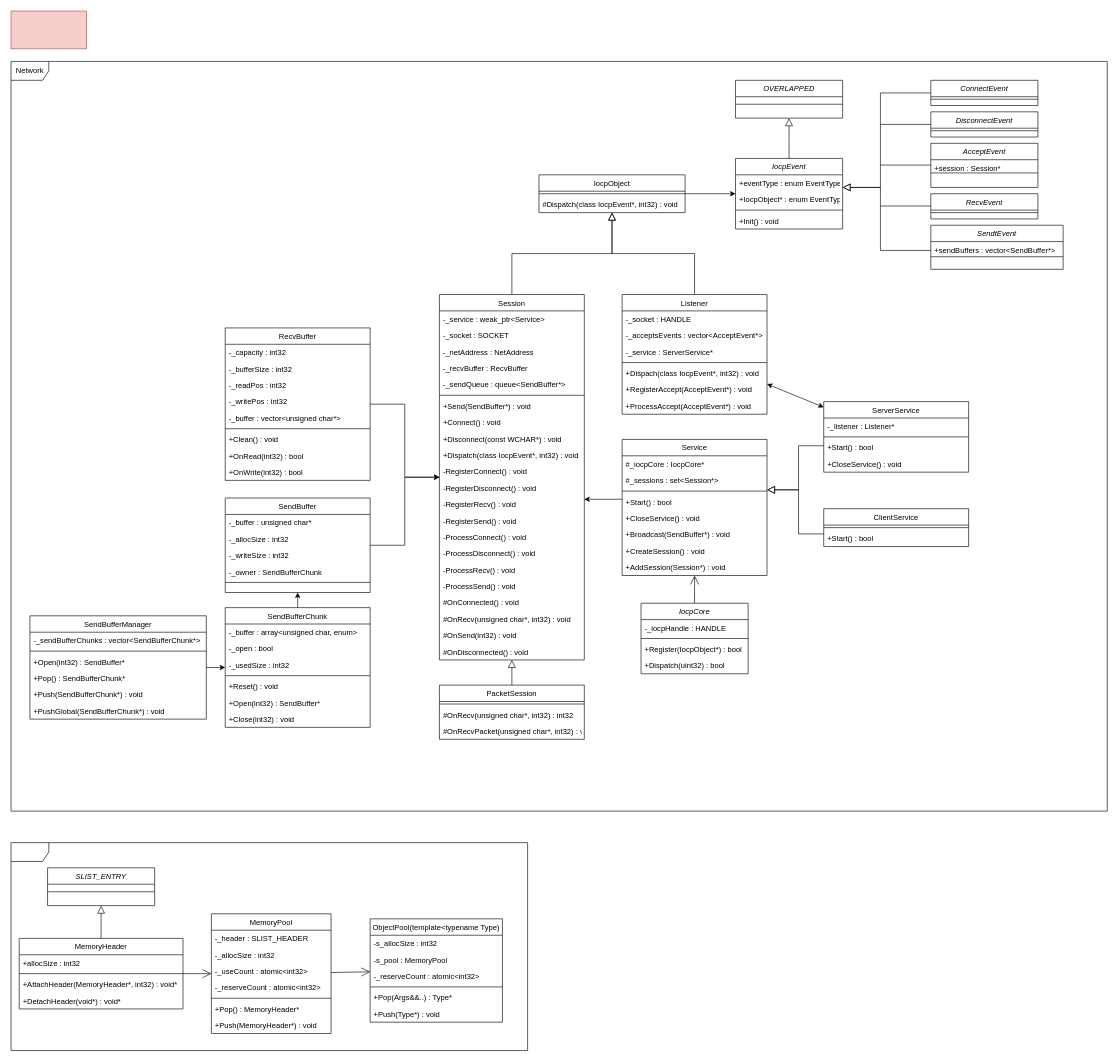
The diagram is 1118 pixels wide and 1062 high, and some of its shapes have lost their labels. Here are the shapes that lost their labels. From the top down, the centre of each, then its label:
(48,29): ServerCore
(269,946): Memory
